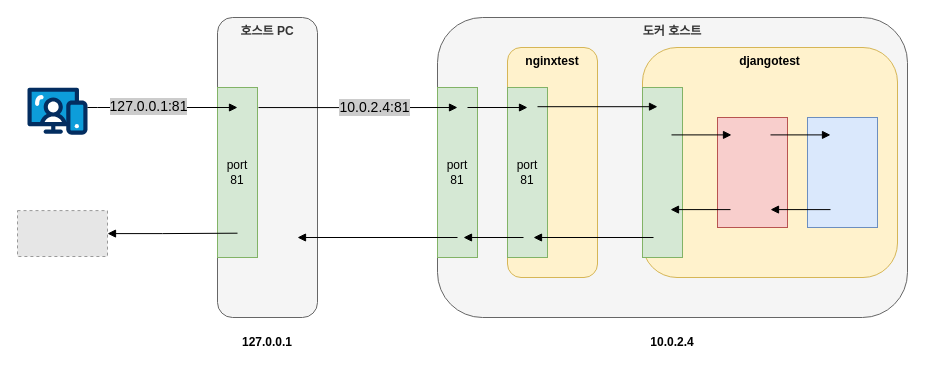
Image size: 925x375. Some labels were removed from this diagram. Grey dashed boxes stand in for pictures. The shapes that lost their labels are listed below. From the top down, each one's centre as x and y in pixels, then its label:
the point at 662,172: port 8001
the point at 752,172: gunicorn
the point at 842,172: myapp
